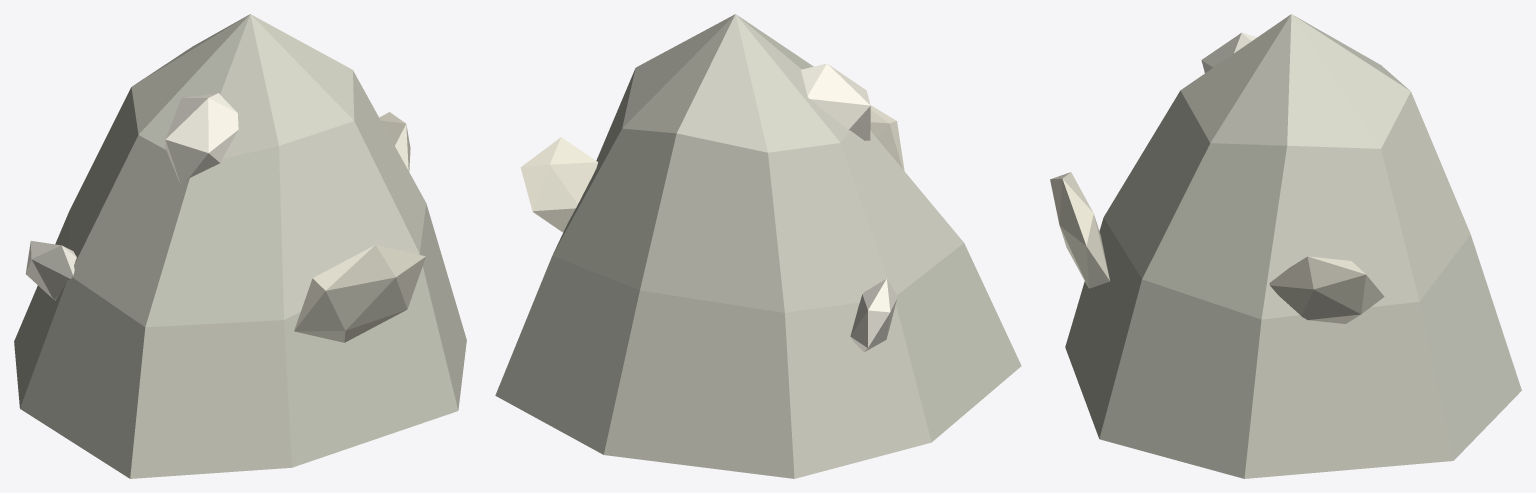
Rendered from FTF_Resource_LimestoneOre_Node.glb.
3 renders of one model, left to right at view 1: azimuth 30°, elevation 25°; view 2: azimuth 150°, elevation 25°; view 3: azimuth 270°, elevation 25°, orthographic. The views are drawn at different scales.
Visible parts, largest first — view 1: OreRockBody, OreVeinFront, OreVeinUpper, OreVeinLeft, OreVeinRight; view 2: OreRockBody, OreVeinRight, OreVeinUpper, OreVeinLeft, OreVeinFront; view 3: OreRockBody, OreVeinRight, OreVeinFront, OreVeinUpper.
Boxes of the visible parts, x1,y1,x2,y2 form: OreRockBody: (14,14,466,478); OreVeinFront: (294,245,425,342); OreVeinUpper: (165,93,238,184); OreVeinLeft: (25,241,76,300); OreVeinRight: (379,112,410,171); OreRockBody: (495,14,1021,478); OreVeinRight: (520,137,597,232); OreVeinUpper: (801,63,870,140); OreVeinLeft: (850,278,897,351); OreVeinFront: (870,105,904,170); OreRockBody: (1065,14,1521,478); OreVeinRight: (1269,256,1384,323); OreVeinFront: (1050,172,1109,288); OreVeinUpper: (1201,32,1256,72).
Bounding box in the file's own units: 1.13 × 0.95 × 1.11.
